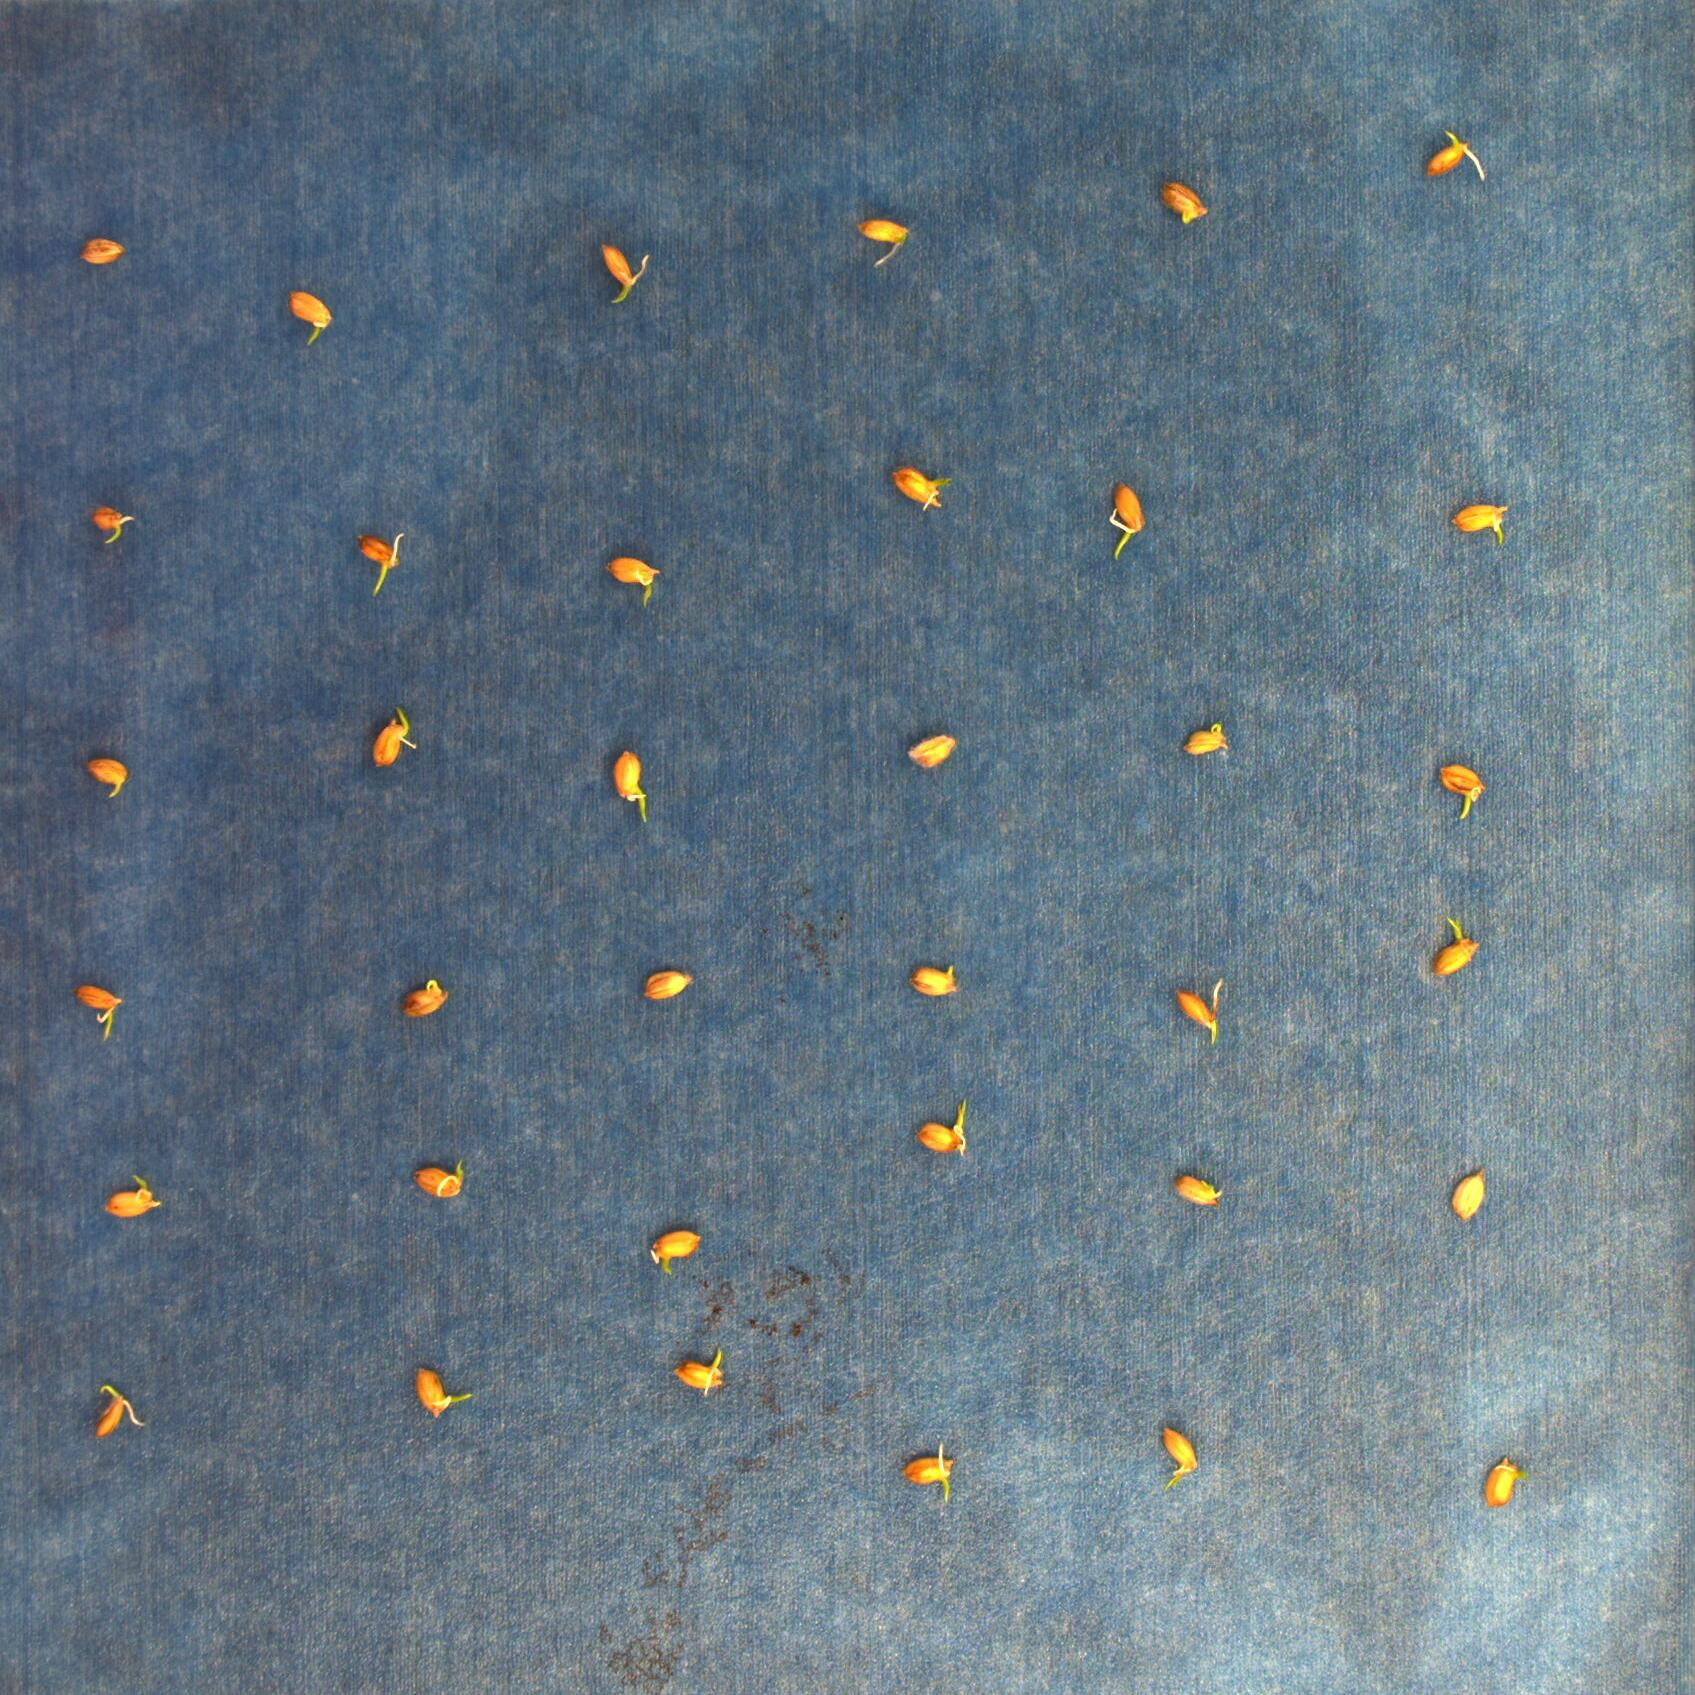not sprout: (1173, 978, 1226, 1048), (1426, 130, 1492, 186), (1431, 914, 1485, 981), (903, 1445, 956, 1509), (369, 703, 418, 770), (672, 1347, 733, 1400), (891, 466, 955, 515), (855, 216, 913, 270), (88, 1381, 141, 1440), (1451, 498, 1512, 549), (99, 1178, 165, 1218), (1159, 1423, 1200, 1489), (408, 1159, 469, 1200), (647, 1229, 700, 1274), (1156, 180, 1208, 225), (1478, 1456, 1520, 1509), (1450, 1167, 1487, 1225), (1180, 722, 1234, 761), (910, 962, 962, 1001), (87, 756, 132, 801), (394, 981, 445, 1020), (1173, 1177, 1226, 1211), (640, 969, 689, 1004), (905, 734, 956, 768), (78, 234, 123, 269), (92, 509, 133, 545)
sprout: (913, 1101, 976, 1161), (352, 523, 405, 596), (601, 554, 667, 607), (1105, 477, 1147, 560), (612, 747, 653, 826), (411, 1367, 472, 1420), (601, 241, 650, 304), (1440, 757, 1487, 820), (290, 290, 338, 349), (81, 986, 123, 1042)
